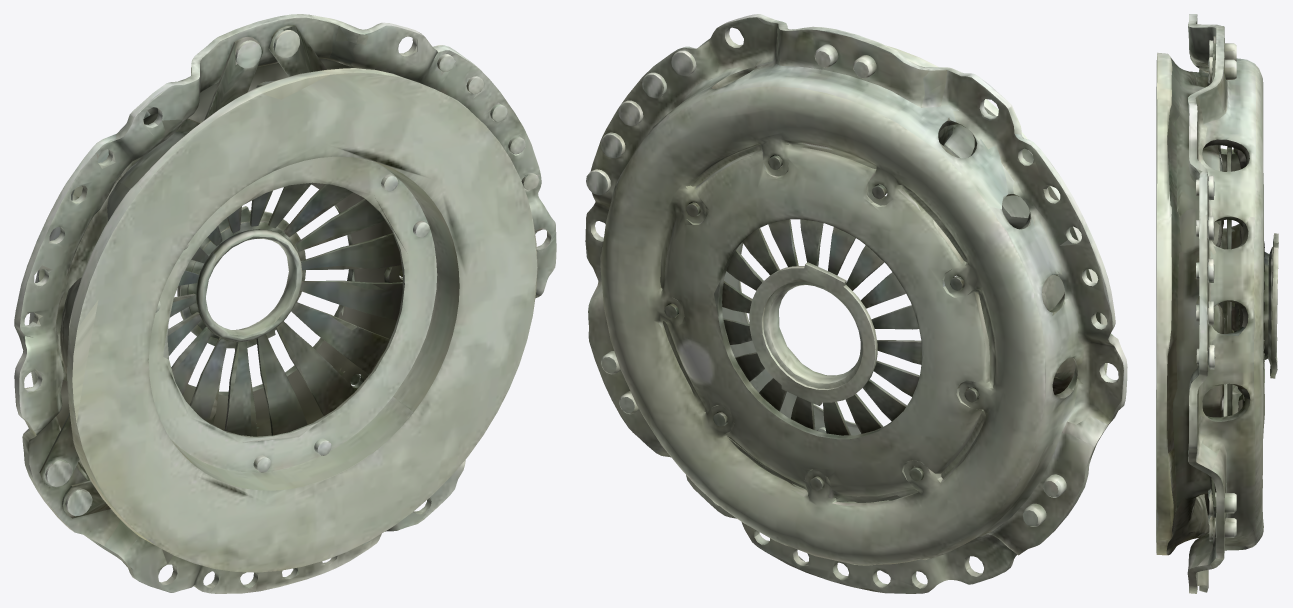
Rendered from clutch_basket.glb.
The picture shows the model from 3 angles, left to right: view 1: azimuth 30°, elevation 25°; view 2: azimuth 150°, elevation 25°; view 3: azimuth 270°, elevation 25°; orthographic projection. The views are drawn at different scales.
Visible parts, largest first — view 1: clutch_basket; view 2: clutch_basket; view 3: clutch_basket.
Boxes of the visible parts, bbox=[...] form: clutch_basket: bbox=[14, 14, 556, 593]; clutch_basket: bbox=[585, 14, 1127, 593]; clutch_basket: bbox=[1156, 14, 1278, 593].
Size of the model in its own units: 1 by 0.9918 by 0.2111.
1 material, 1 textured.
